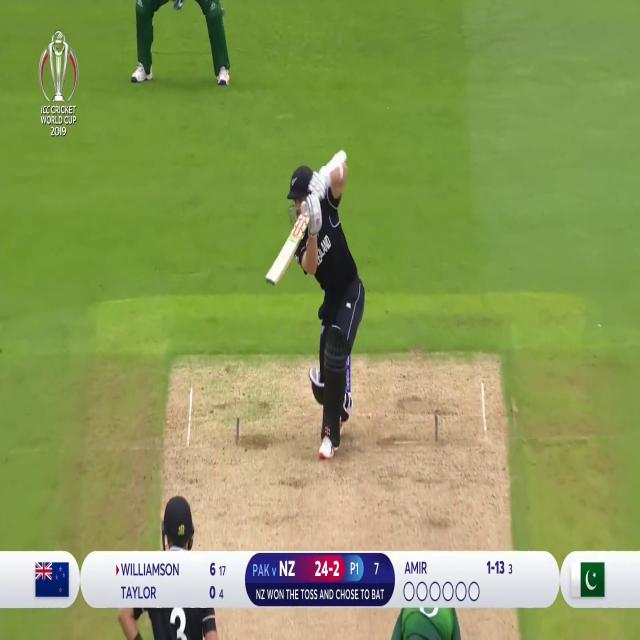bat: (266, 212, 308, 286)
toe: (262, 275, 278, 286)
